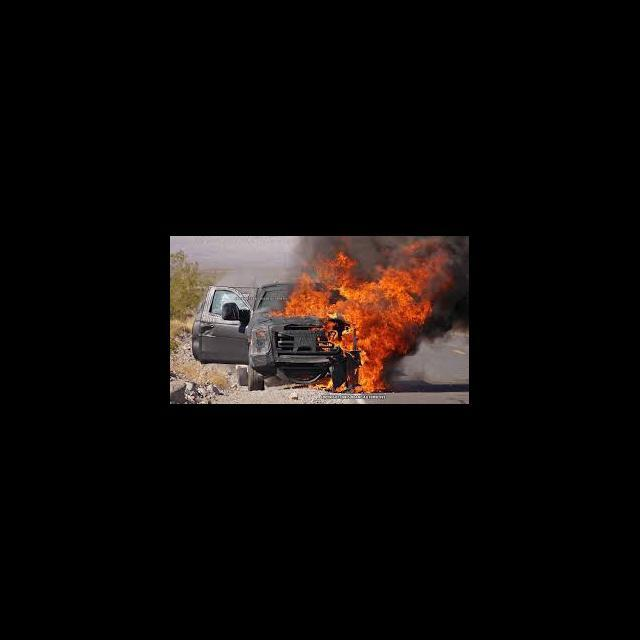Fire: (266, 272, 430, 388), (308, 255, 358, 272)
Smoke: (432, 236, 468, 338), (360, 237, 430, 270), (309, 236, 360, 252), (286, 238, 308, 270)
